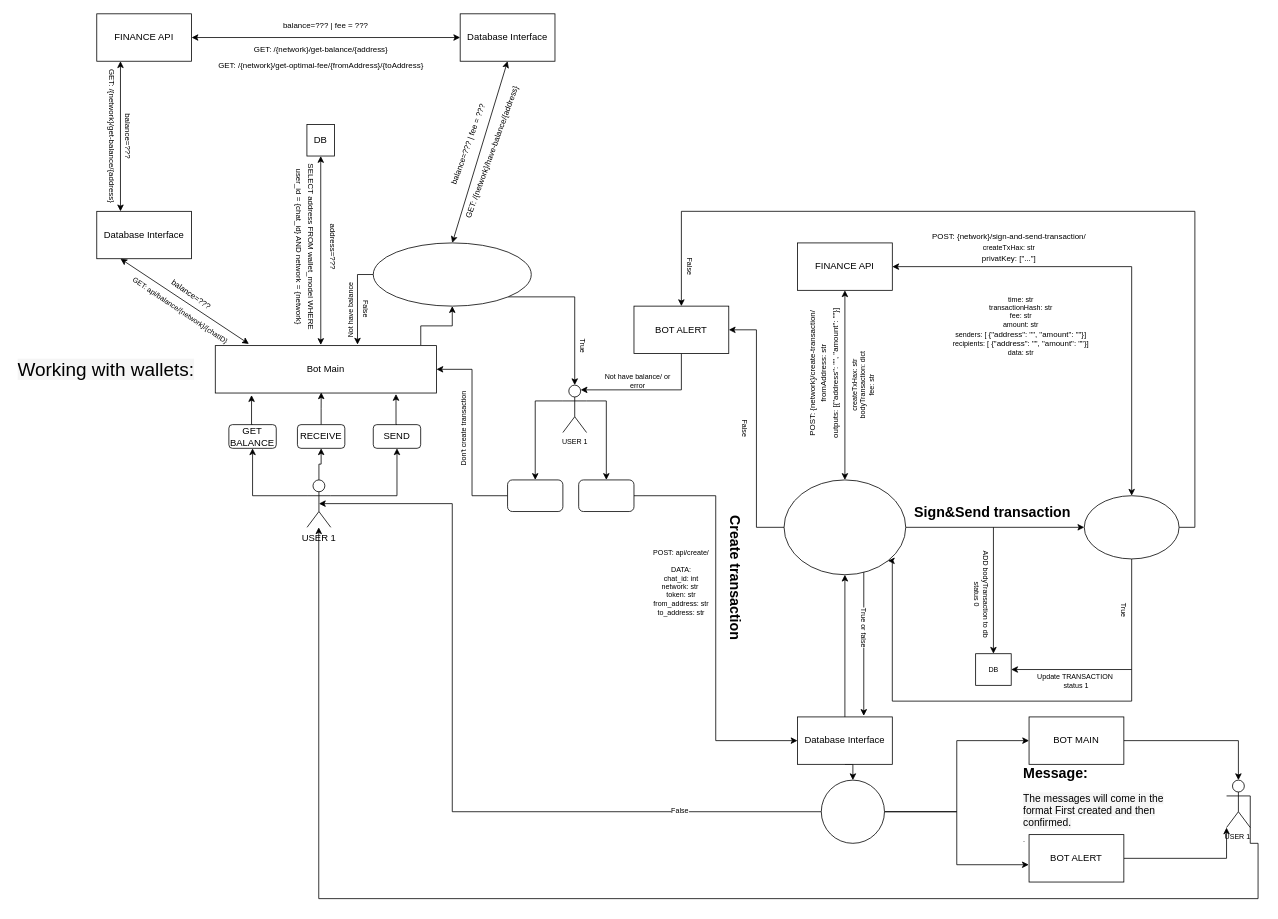
Image size: 1278x919. Some labels were removed from this diagram. The centre of each missing label's shape, as x and y in pixels:
"BACK" goes at (x=535, y=495).
"CREATE" goes at (x=606, y=495).
"FUNC: IF BALANCE - FEE >= AMOUNT True ELSE FALASE" goes at (x=451, y=274).
"IF create is error: return False else: True" goes at (x=844, y=527).
"if send is error return false else True" goes at (x=1131, y=527).
"IF TX is SEND True else False" goes at (x=852, y=811).
